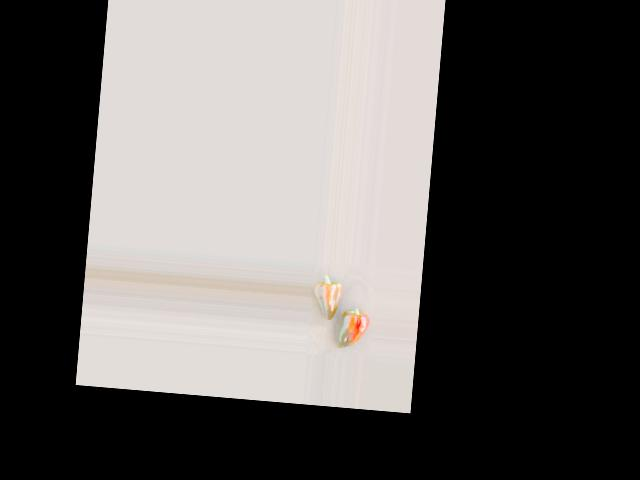bell_pepper: (334, 292, 373, 352)
